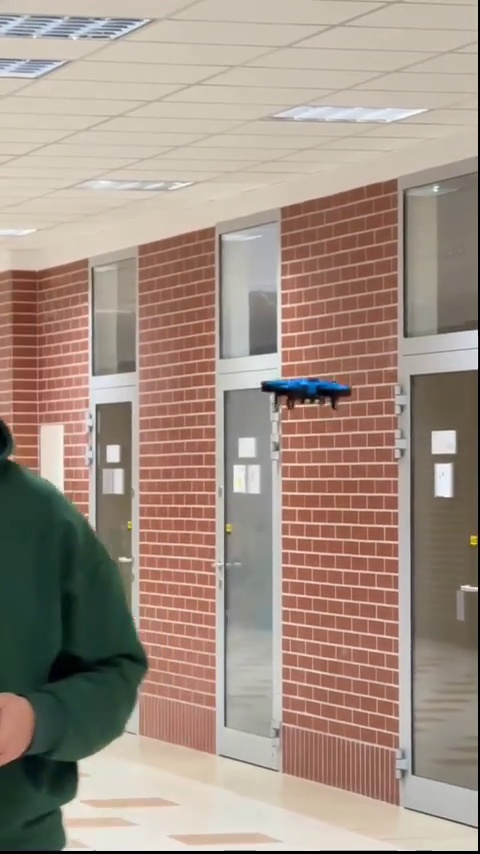drone: (258, 373, 350, 406)
no vest: (0, 403, 147, 854)
